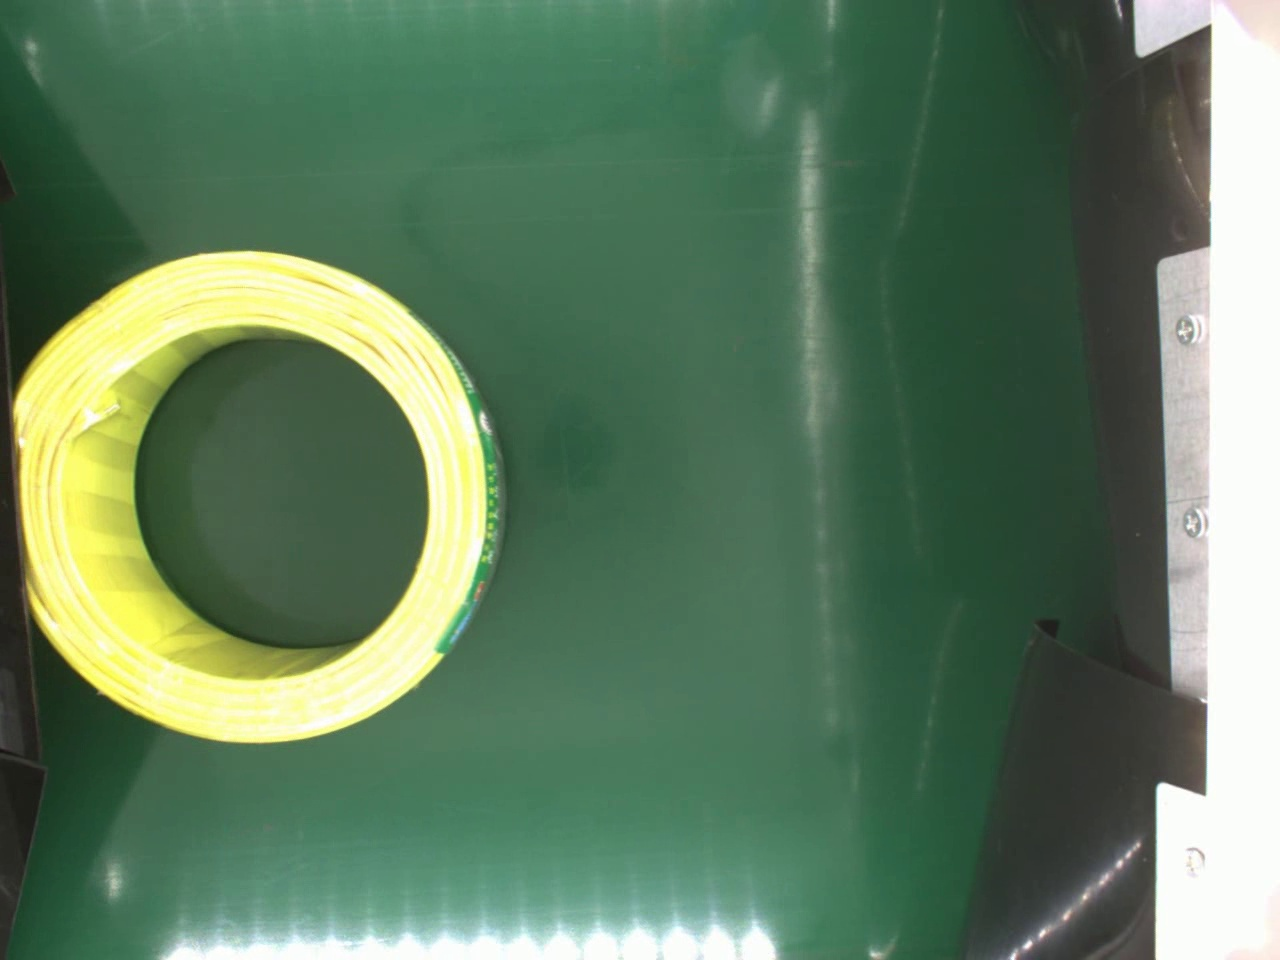yellow: (14, 242, 513, 747)
